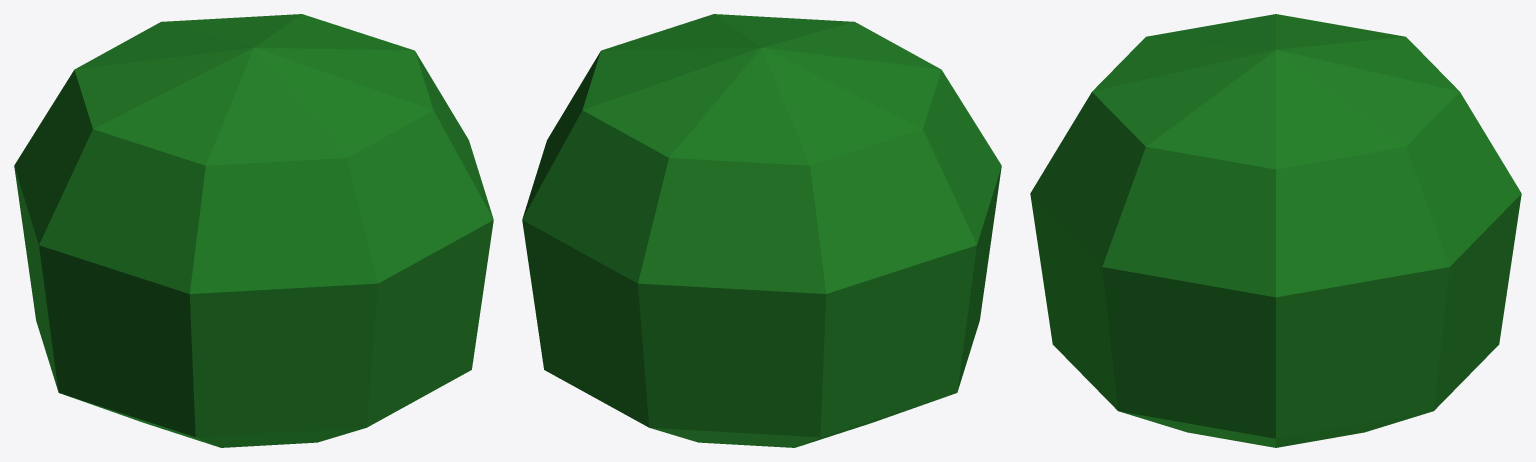
The model's file is bush_fixed.fbx.
3 renders of one model, left to right at view 1: azimuth 30°, elevation 25°; view 2: azimuth 150°, elevation 25°; view 3: azimuth 270°, elevation 25°, orthographic.
Visible parts, largest first — view 1: buisson; view 2: buisson; view 3: buisson.
Part boxes in pixels (<box>): buisson: <box>14,14,493,447</box>; buisson: <box>522,14,1001,447</box>; buisson: <box>1030,14,1521,447</box>.
Bounding box in the file's own units: 60.91 × 47.19 × 60.91.
